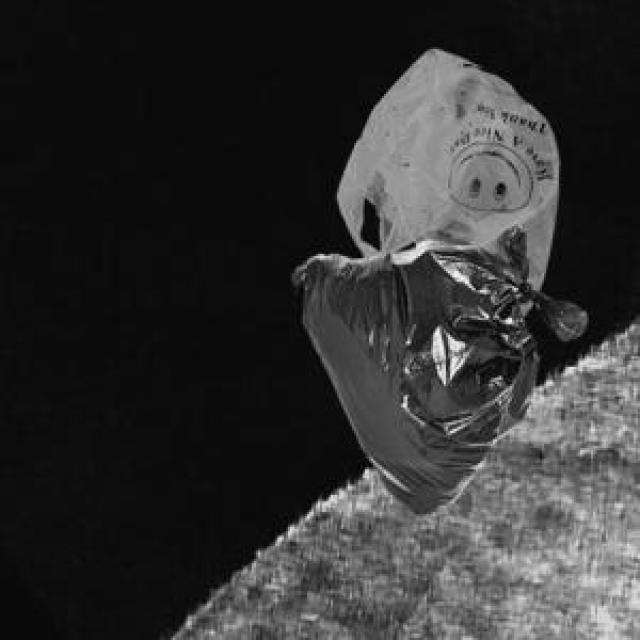miscellaneous trash: (288, 222, 582, 510)
